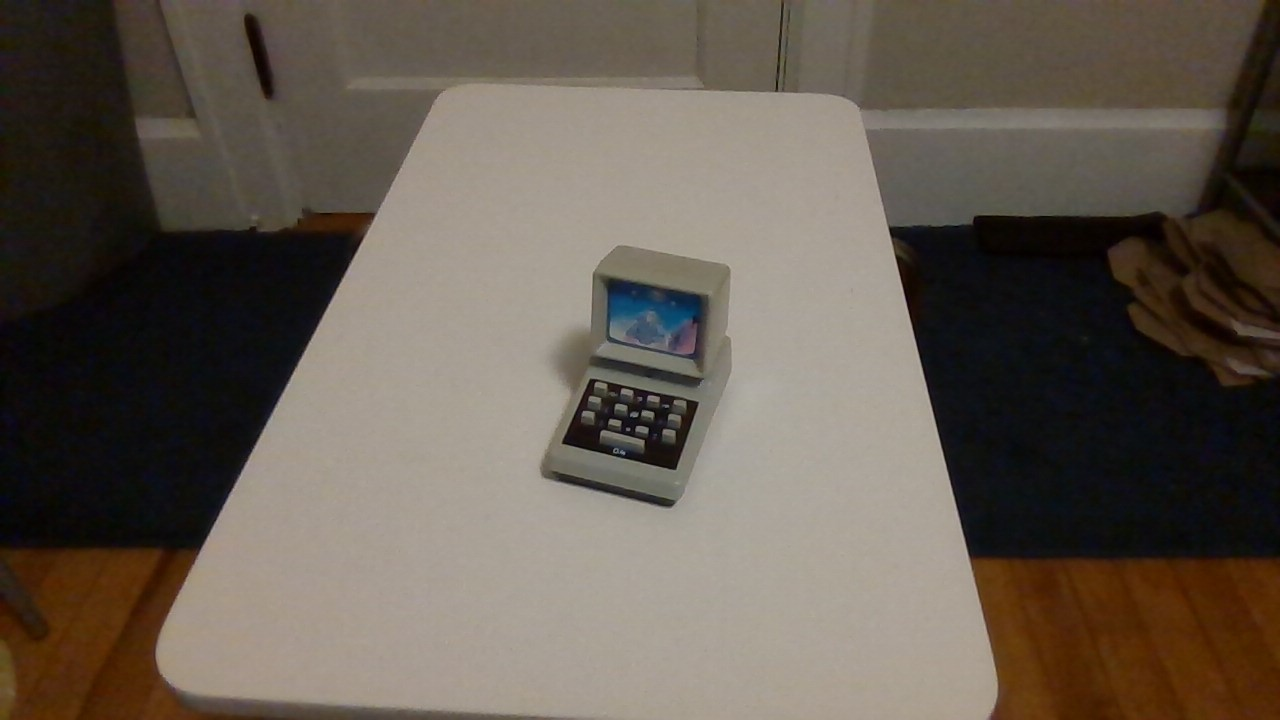Toy: (530, 226, 748, 519)
